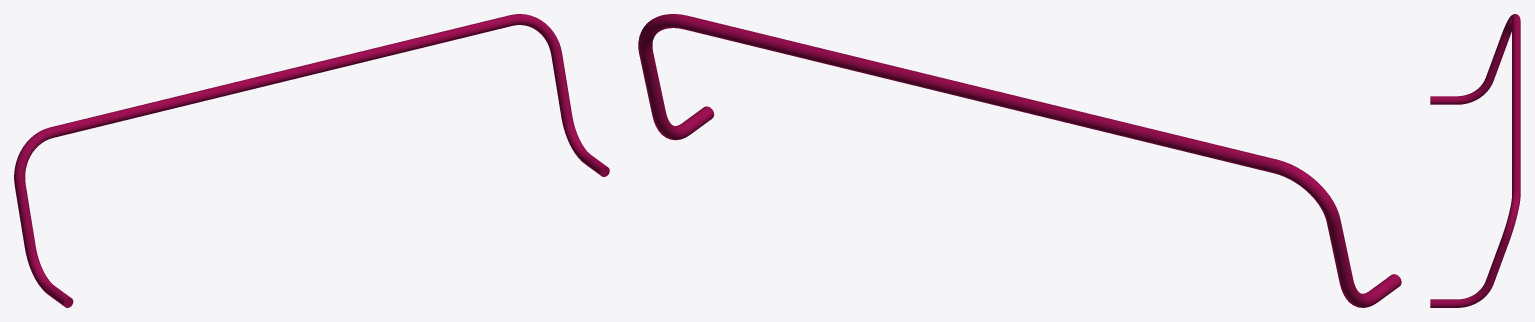
File: UA_26_Chassis_Assembly__Shoulder_Harness_Lateral_Retention_1.dae
3 views of the same model, side by side, from view 1: azimuth 30°, elevation 25°; view 2: azimuth 150°, elevation 25°; view 3: azimuth 270°, elevation 25° (orthographic). The views are drawn at different scales.
Visible parts, largest first — view 1: node0; view 2: node0; view 3: node0.
Part boxes in pixels (x1,y1,x2,y2): node0: (14,14,609,307); node0: (638,14,1401,307); node0: (1430,14,1520,307).
Bounding box in the file's own units: 0.0905 × 0.0206 × 0.0167.
